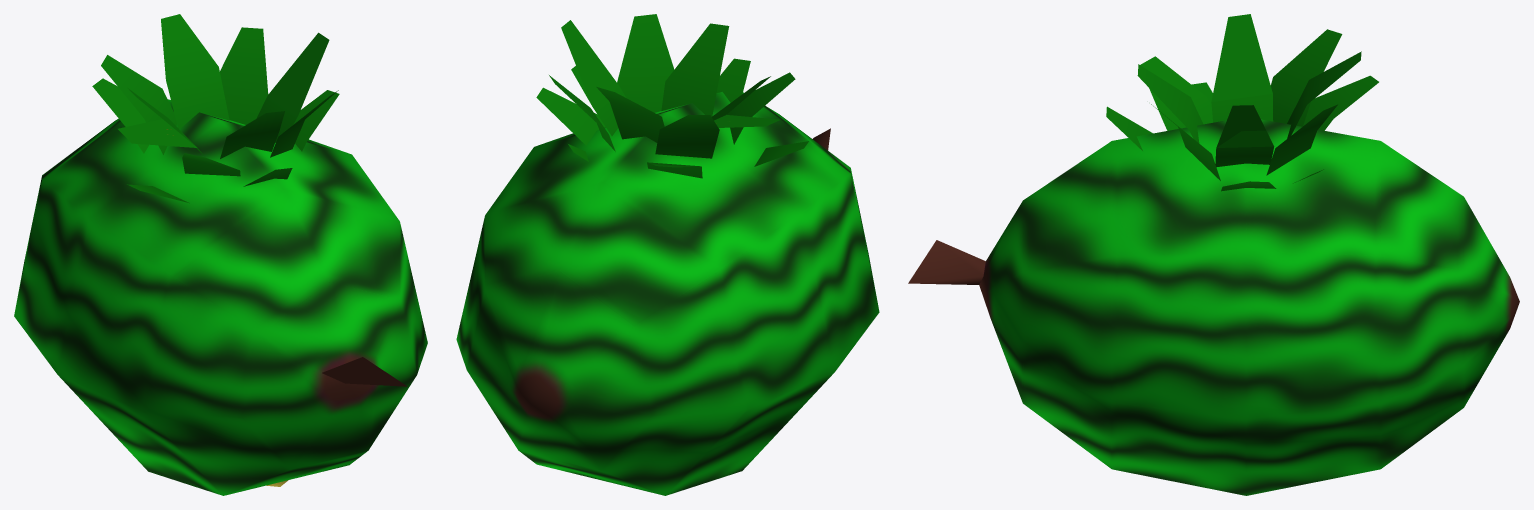
File: Fruits.fbx
The picture shows the model from 3 angles, left to right: view 1: azimuth 30°, elevation 25°; view 2: azimuth 150°, elevation 25°; view 3: azimuth 270°, elevation 25°; orthographic projection. The views are drawn at different scales.
Parts seen in each view (by area): view 1: Melon, Pineapple; view 2: Melon, Pineapple; view 3: Melon, Pineapple.
Boxes of the visible parts, x1,y1,x2,y2 form: Melon: (14, 99, 427, 495); Pineapple: (92, 14, 339, 203); Melon: (456, 92, 879, 495); Pineapple: (536, 14, 808, 178); Melon: (908, 119, 1519, 495); Pineapple: (1106, 14, 1378, 191).
Size of the model in its own units: 1.98 by 2.33 by 3.12.
